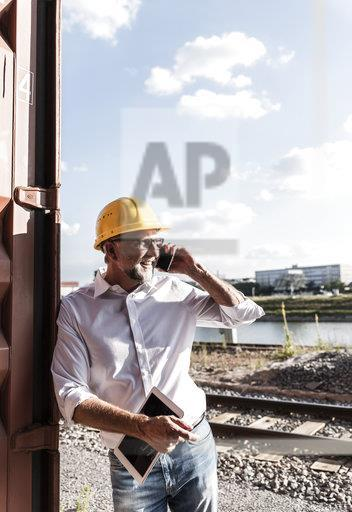helmet: (93, 196, 171, 251)
